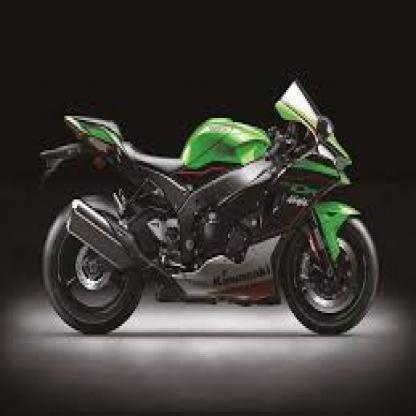Motorcycle: (28, 77, 386, 339)
